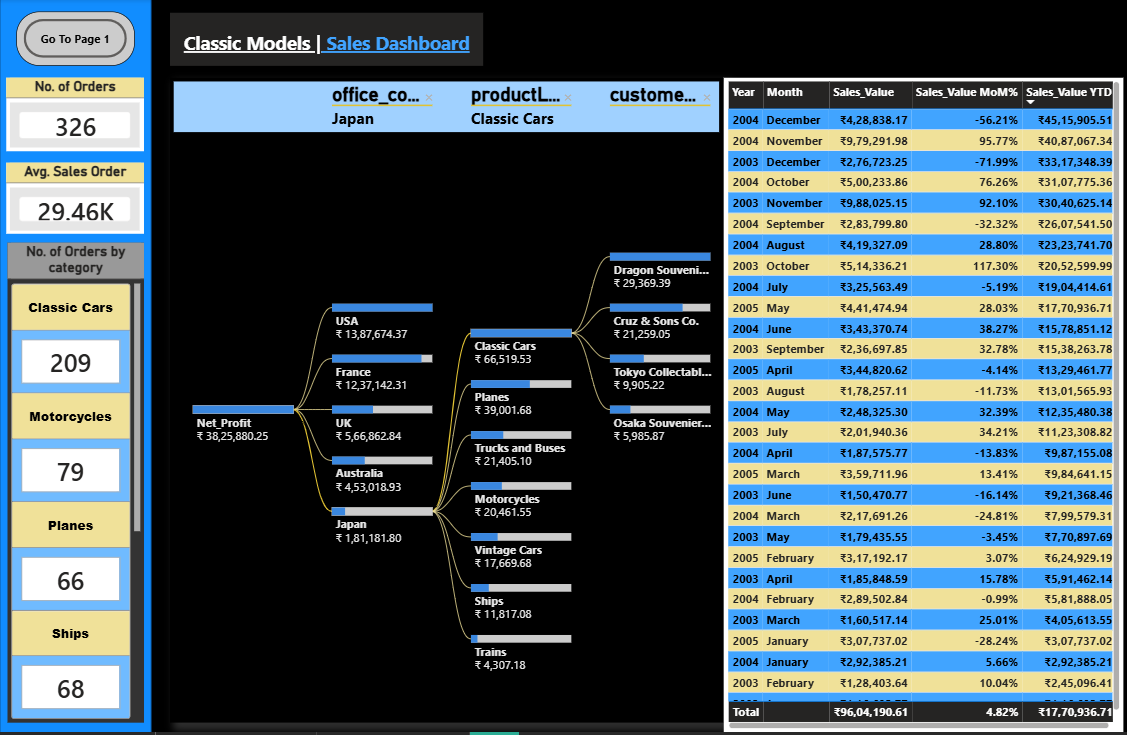

This screenshot's page, from the dashboard's own definition file:
{"tool":"powerbi","page":{"name":"Sales Overview","canvas":[1500,950],"ordinal":1},"visuals":[{"type":"shape","box":[0,0,195.9,950.3],"z":0},{"type":"cardVisual","title":"No. of Orders","fields":{"Data":["Count(Sales Data for Power BI.ordernumber)"]},"box":[8.4,101.9,178.7,95.2],"z":1000},{"type":"cardVisual","title":"Avg. Sales Order","fields":{"Data":["Sales Data for Power BI.Average_Sales_Order"]},"box":[8.4,212.1,178.7,91.9],"z":2000},{"type":"cardVisual","title":"No. of Orders by category","fields":{"Data":["Count(Sales Data for Power BI.ordernumber)"],"Rows":["Sales Data for Power BI.productLine"]},"box":[10,315.7,177.1,621.4],"z":3000},{"type":"textbox","box":[220.5,18.4,405.9,68.5],"z":5000},{"type":"decompositionTreeVisual","fields":{"Analyze":["Sales Data for Power BI.Net_Profit"],"ExplainBy":["Sales Data for Power BI.office_country","Sales Data for Power BI.productLine","Sales Data for Power BI.customerName"]},"box":[220.5,101.9,716.6,835.2],"z":6000},{"type":"tableEx","fields":{"Values":["Sales Data for Power BI.orderdate.Variation.Date Hierarchy.Year","Sales Data for Power BI.orderdate.Variation.Date Hierarchy.Month","Sum(Sales Data for Power BI.sales_value)","Sales Data for Power BI.Sum of sales_value MoM% 2","Sales Data for Power BI.Sum of sales_value YTD"]},"box":[937.1,101.9,517.8,848.6],"z":7000},{"type":"actionButton","box":[21.7,16.7,153.7,70.2],"z":8000}]}

Visuals, with their boxes in screenshot pixels (x1, y1, x2, y2), scaled from the page's 1500x950 canvas onto the 1127x735 screenshot:
shape: [left=0, top=0, right=147, bottom=734]
"No. of Orders" cardVisual: [left=6, top=79, right=141, bottom=152]
"Avg. Sales Order" cardVisual: [left=6, top=164, right=141, bottom=235]
"No. of Orders by category" cardVisual: [left=8, top=244, right=141, bottom=725]
textbox: [left=166, top=14, right=471, bottom=67]
decompositionTreeVisual - Sales Data for Power BI.Net_Profit x Sales Data for Power BI.office_country: [left=166, top=79, right=704, bottom=725]
tableEx - Sales Data for Power BI.orderdate.Variation.Date Hierarchy.Year x Sales Data for Power BI.orderdate.Variation.Date Hierarchy.Month: [left=704, top=79, right=1093, bottom=734]
actionButton: [left=16, top=13, right=132, bottom=67]
